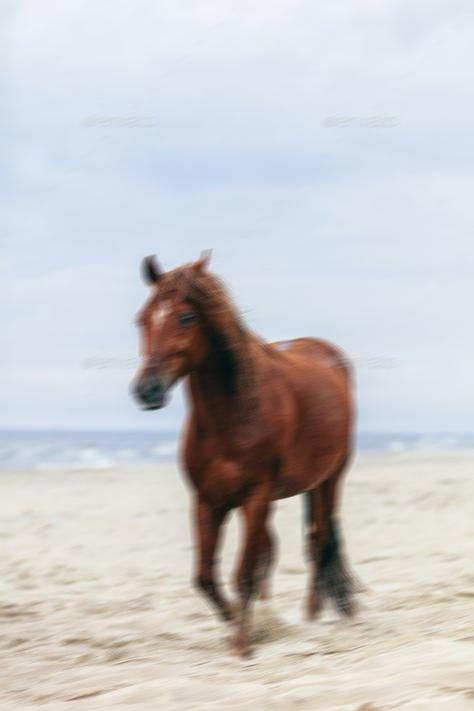horse: (130, 247, 373, 660)
